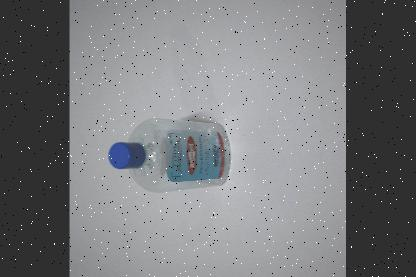Plastic Bottle: (108, 117, 230, 191)
